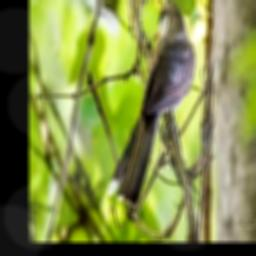Cuckoo: (105, 1, 195, 208)
